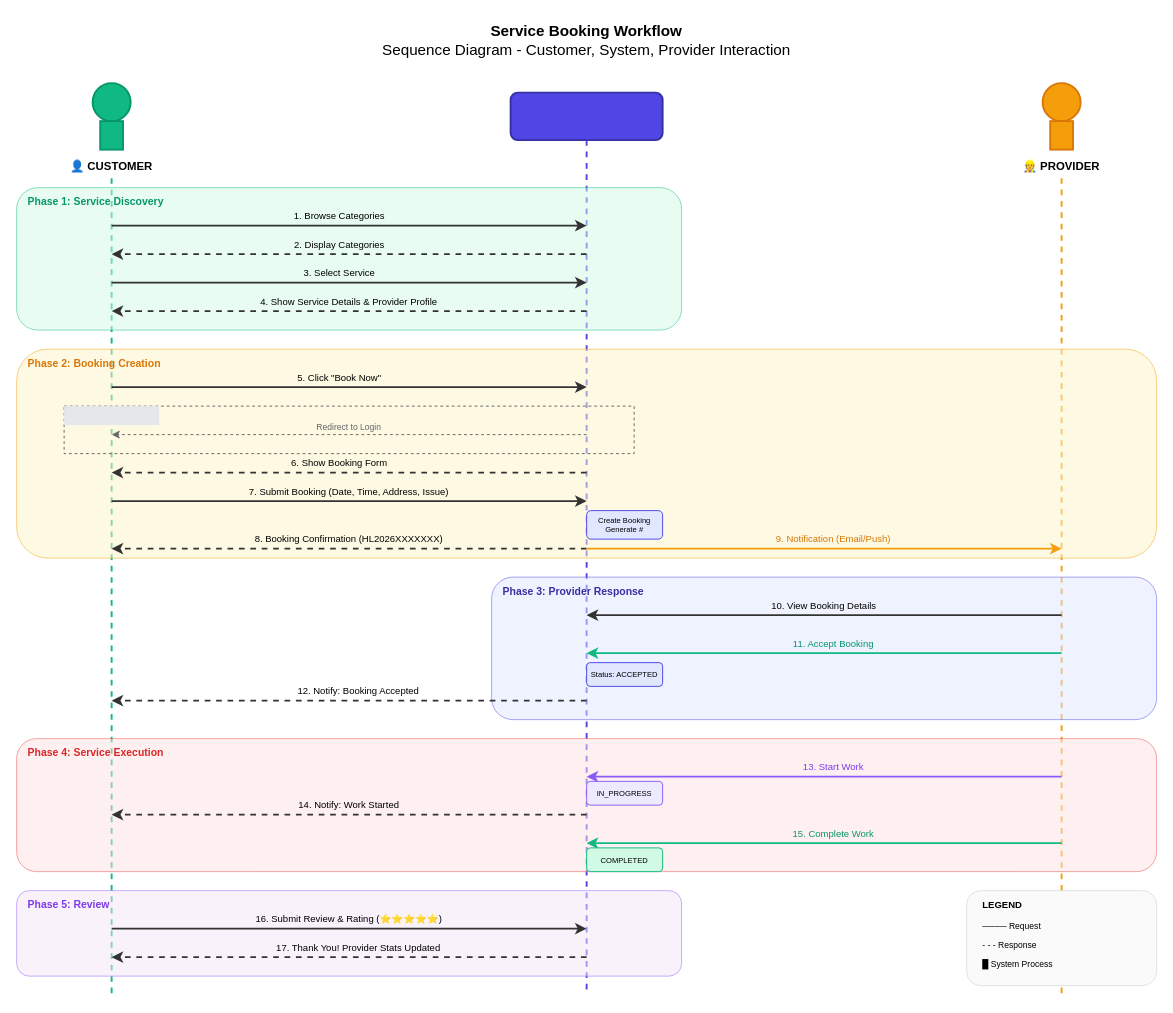
This 1173x1013 diagram has some shape labels left out. Here are the shapes that lost their labels. From the top down, the centre of each, then its label:
[586,116]: 🖥️ SYSTEM
[111,415]: [alt] Not Logged In
